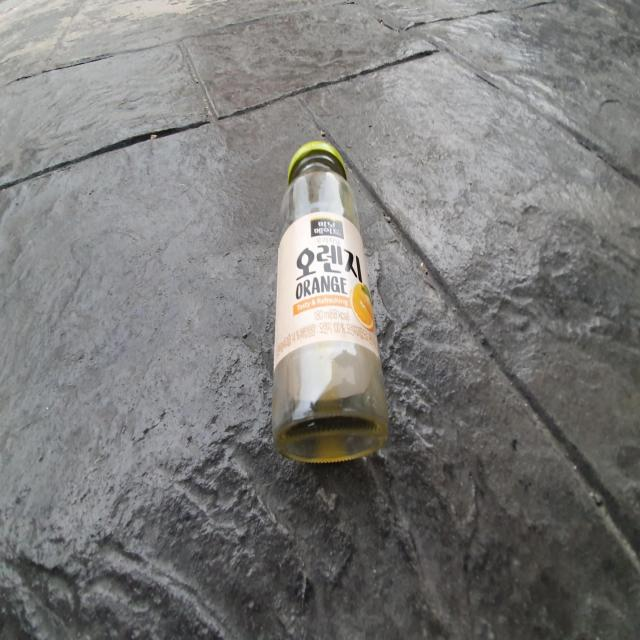glass: (272, 140, 388, 462)
